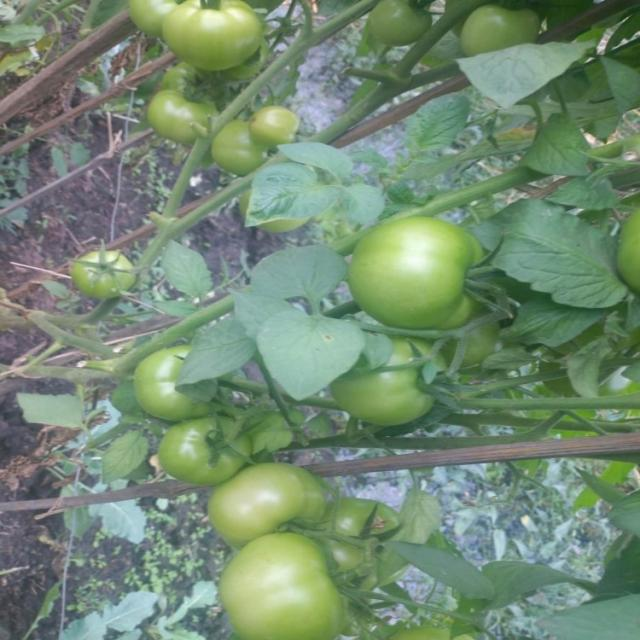tomato: (349, 211, 507, 339), (219, 530, 357, 640), (331, 340, 462, 439), (165, 2, 297, 82), (332, 487, 422, 592), (214, 466, 324, 543), (194, 116, 301, 191), (162, 413, 252, 490), (129, 345, 210, 417), (453, 1, 550, 57), (148, 77, 217, 141), (360, 1, 436, 53), (69, 249, 140, 301), (252, 97, 318, 144), (613, 201, 640, 299)
